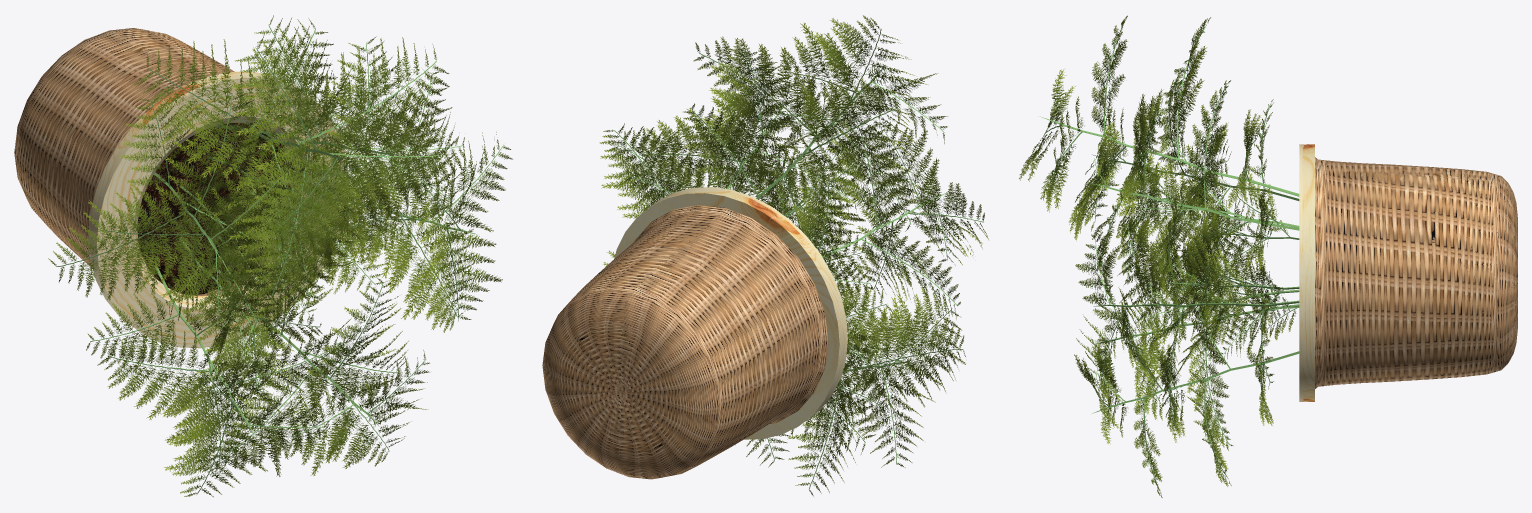
3 views of the same model, side by side, from view 1: azimuth 30°, elevation 25°; view 2: azimuth 150°, elevation 25°; view 3: azimuth 270°, elevation 25° (orthographic). The views are drawn at different scales.
Visible parts, largest first — view 1: HP02_2; view 2: HP02_2; view 3: HP02_2.
Boxes of the visible parts, bbox=[...] form: HP02_2: bbox=[14, 15, 512, 497]; HP02_2: bbox=[542, 15, 988, 496]; HP02_2: bbox=[1019, 15, 1517, 497].
Bounding box in the file's own units: 58.82 × 63.84 × 67.07.
5 materials, 5 textured.
